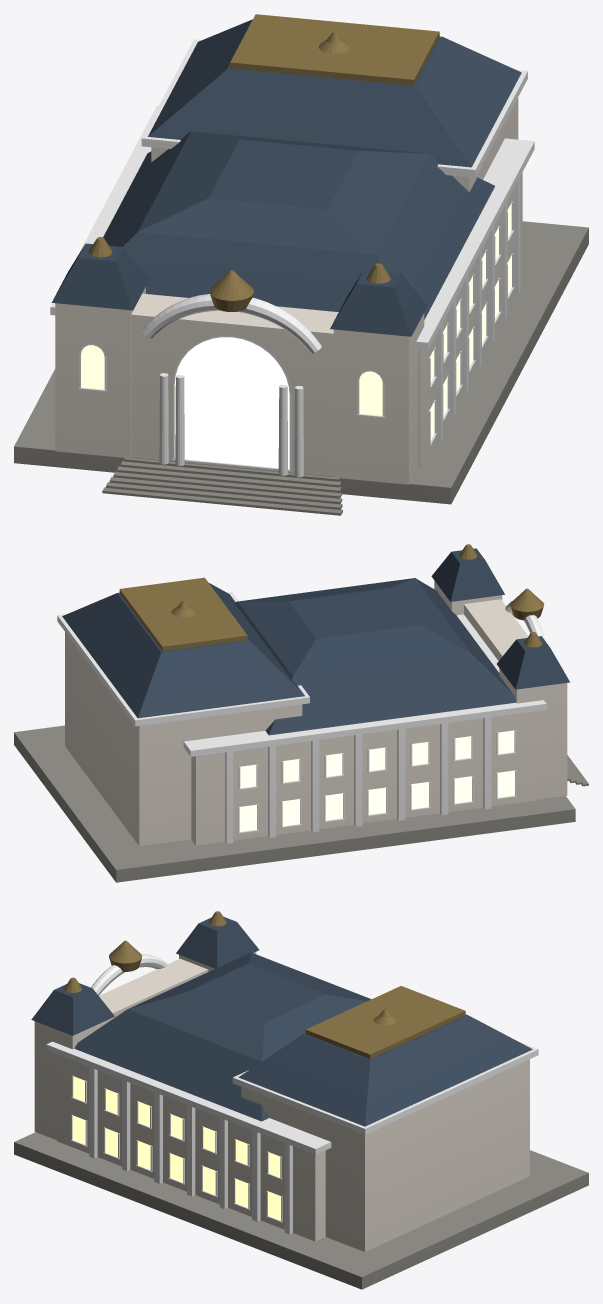
Rendered from nha_hat_thanh_pho.glb.
The picture shows the model from 3 angles, top to bottom: view 1: azimuth 30°, elevation 25°; view 2: azimuth 150°, elevation 25°; view 3: azimuth 270°, elevation 25°; orthographic projection. The views are drawn at different scales.
Visible parts, largest first — view 1: nha_hat_thanh_pho; view 2: nha_hat_thanh_pho; view 3: nha_hat_thanh_pho.
Boxes of the visible parts, box(x1,y1,x2,y2) form: nha_hat_thanh_pho: box(14, 14, 588, 515); nha_hat_thanh_pho: box(14, 544, 588, 882); nha_hat_thanh_pho: box(14, 911, 588, 1289).
Bounding box in the file's own units: 74.35 × 28 × 75.42.
